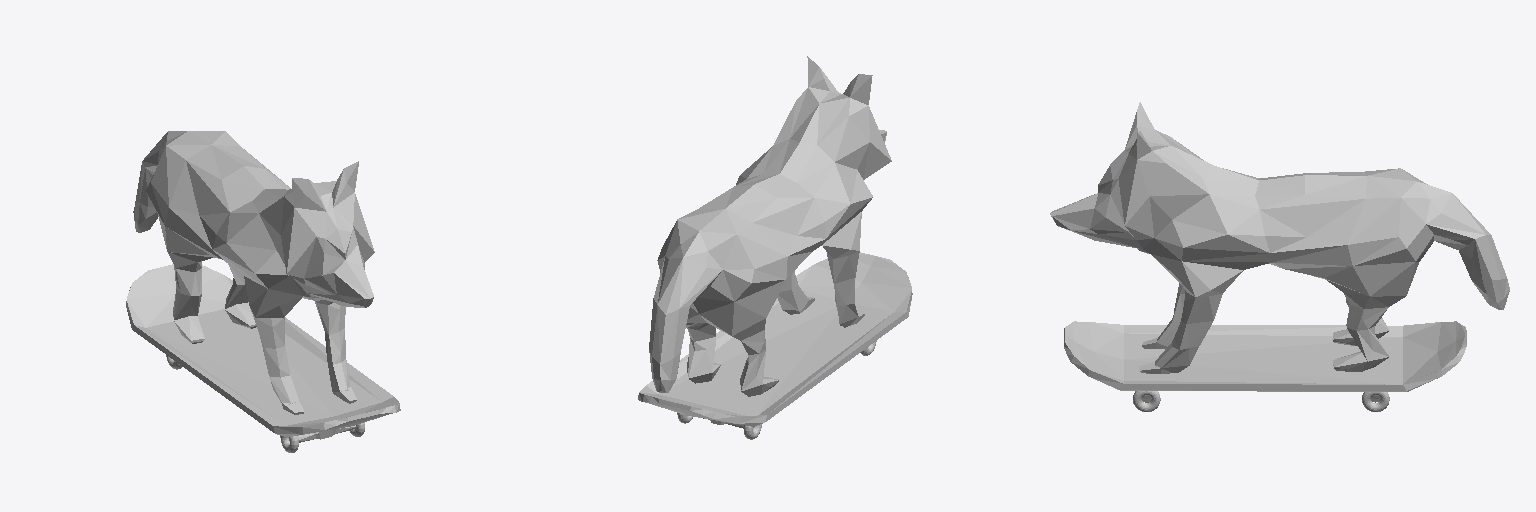
File: Fuchs01.obj
The picture shows the model from 3 angles: view 1: azimuth 30°, elevation 25°; view 2: azimuth 150°, elevation 25°; view 3: azimuth 270°, elevation 25°; orthographic projection.
Bounding box in the file's own units: 3.58 × 7.88 × 11.76.